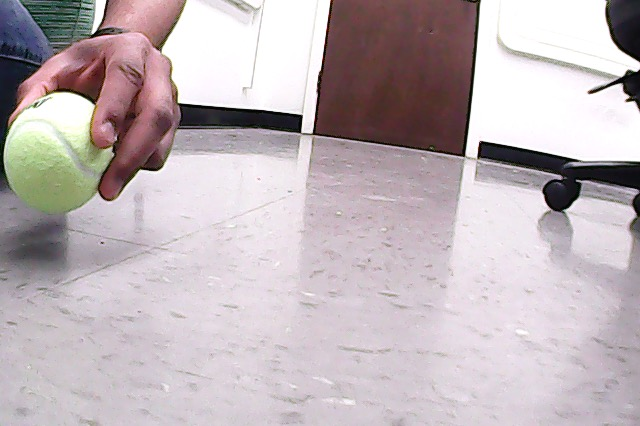ball: (6, 93, 113, 214)
